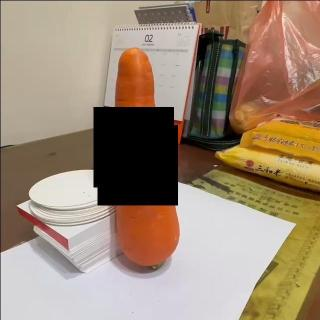carrot: (114, 46, 180, 268)
